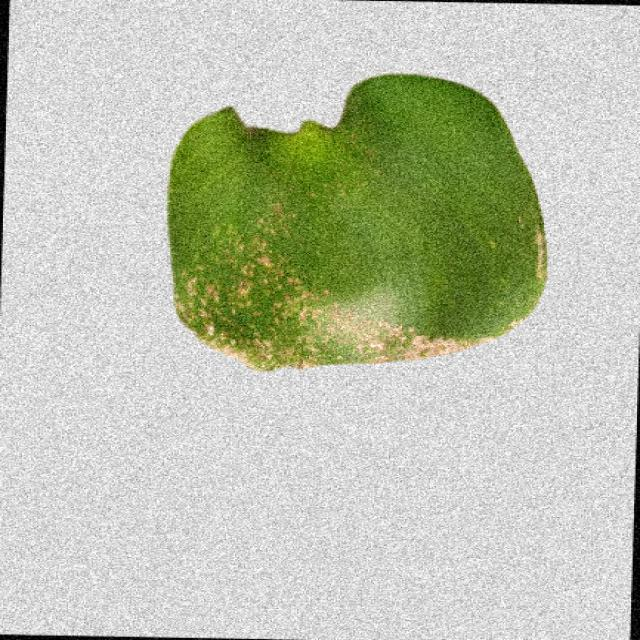daun berpenyakit bercak: (168, 75, 546, 370)
